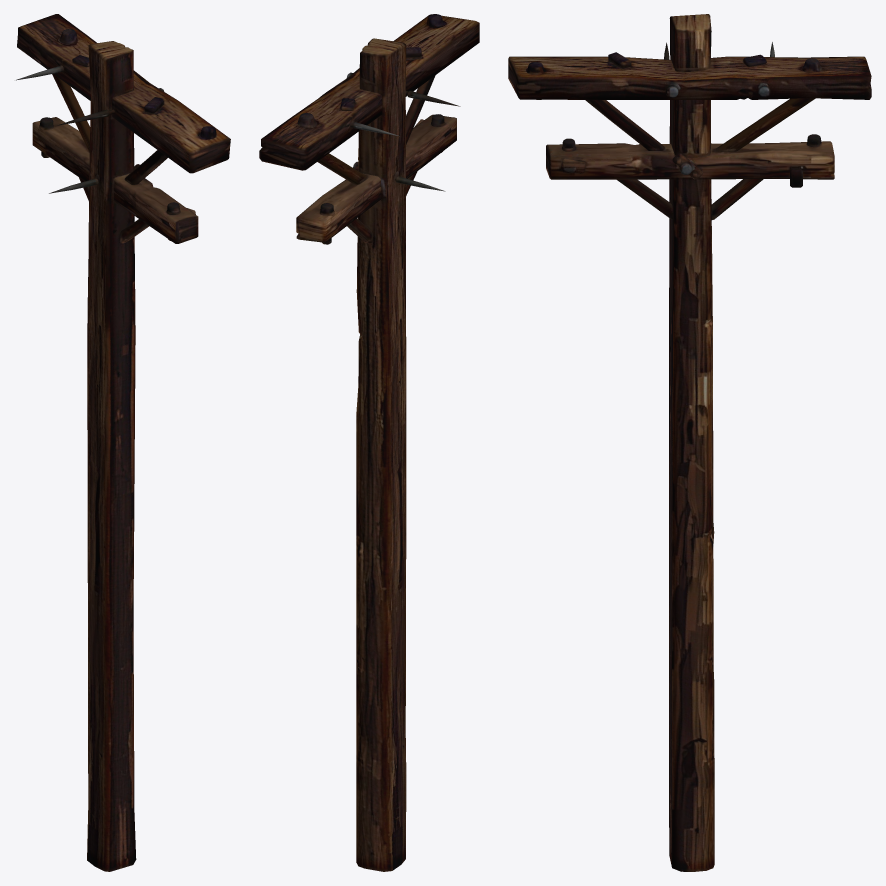
The picture shows the model from 3 angles, left to right: view 1: azimuth 30°, elevation 25°; view 2: azimuth 150°, elevation 25°; view 3: azimuth 270°, elevation 25°; orthographic projection. The views are drawn at different scales.
Size of the model in its own units: 0.1411 by 0.9995 by 0.3911.
Materials: 1 (1 with a texture image).
